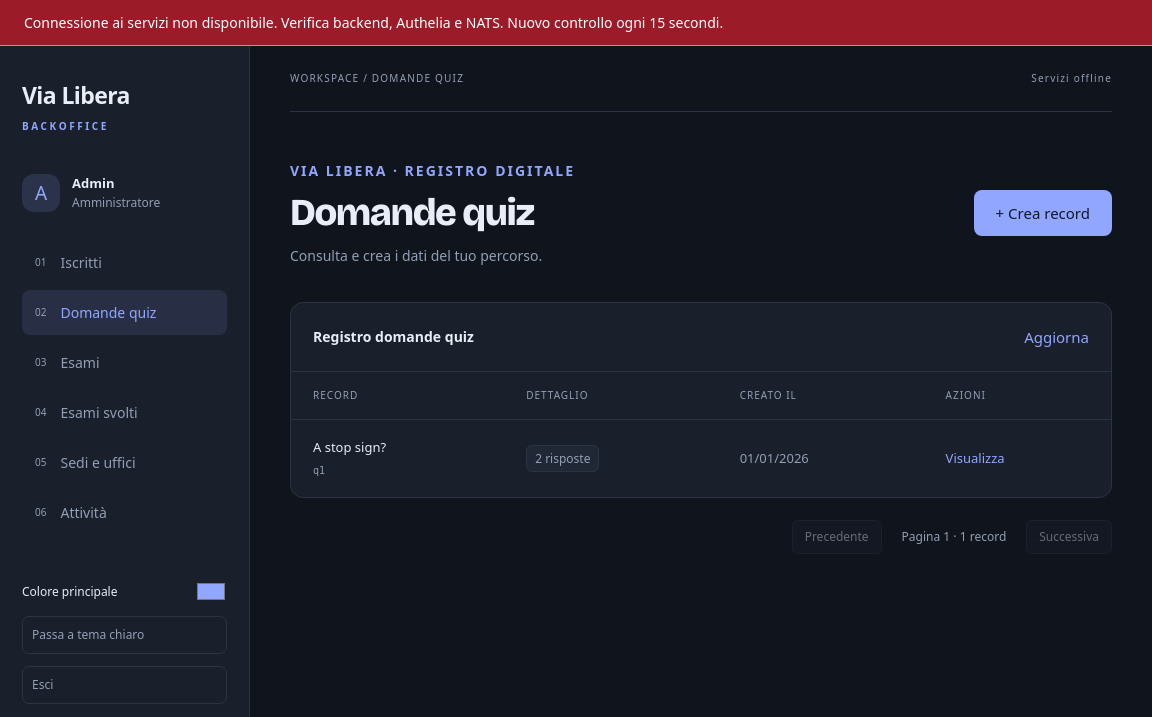
React login and backoffice › defaults to dark, persists theme and primary color, displays records and offline banner
The width and height of the screenshot is (1152, 717).
Expected: the text "A stop sign?" is shown, [313,438,386,456]
Expected: the message shows "15 secondi", [24,13,723,32]
Click the button "Passa a tema chiaro" at (124, 635), box [22,616,227,654]
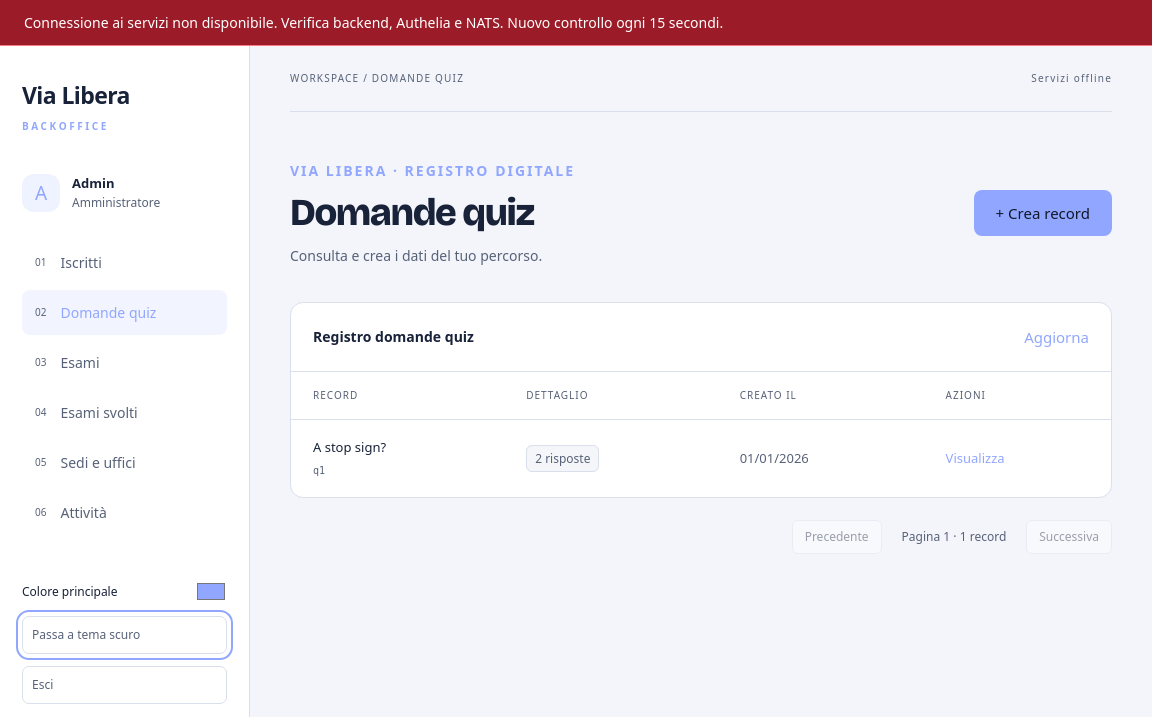
Type "#ff6600" into the colour field labelled "Colore principale" at (211, 592), box [195,579,227,604]
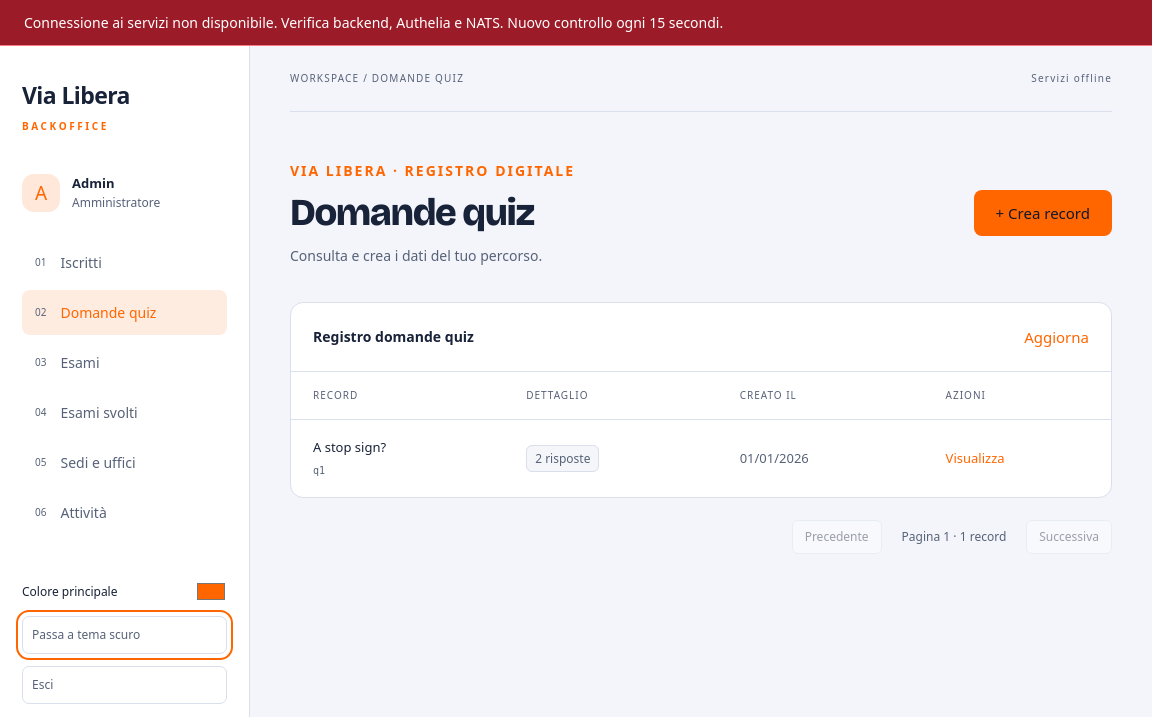
Click the button "Visualizza" at (975, 458), box [946,444,1004,473]
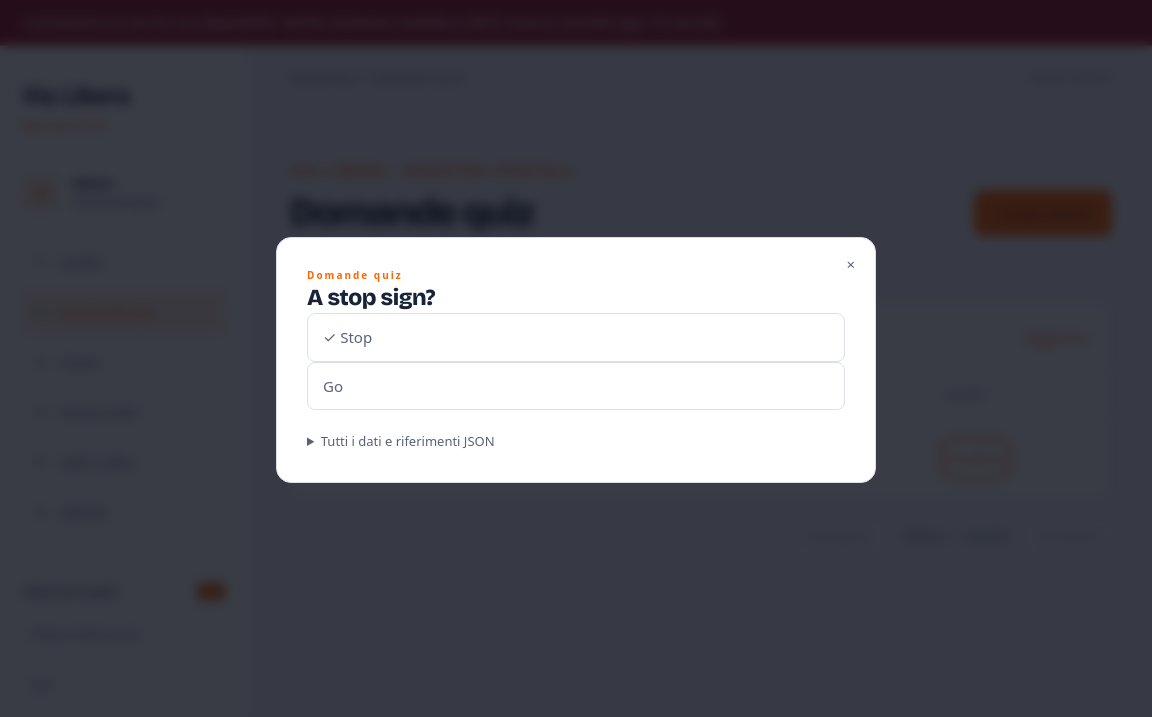
Expected: the dialog shows "stop", [340,327,372,347]
